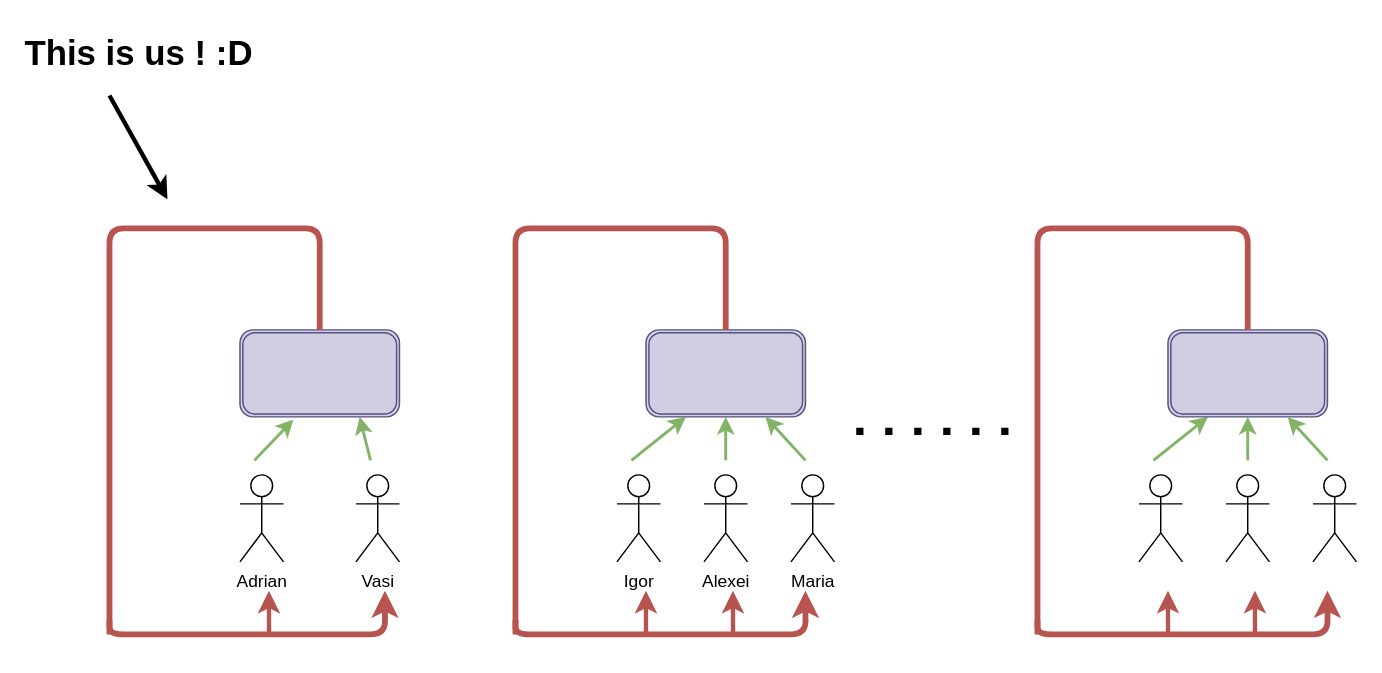
Some shapes in this 1382 by 673 pixel diagram are drawn without their labels. Here are the shapes that lost their labels. From the top down, the box of each, then its label:
(239, 328, 399, 417): Channel C0
(645, 328, 805, 417): Channel C1
(1167, 328, 1327, 417): Channel CN
